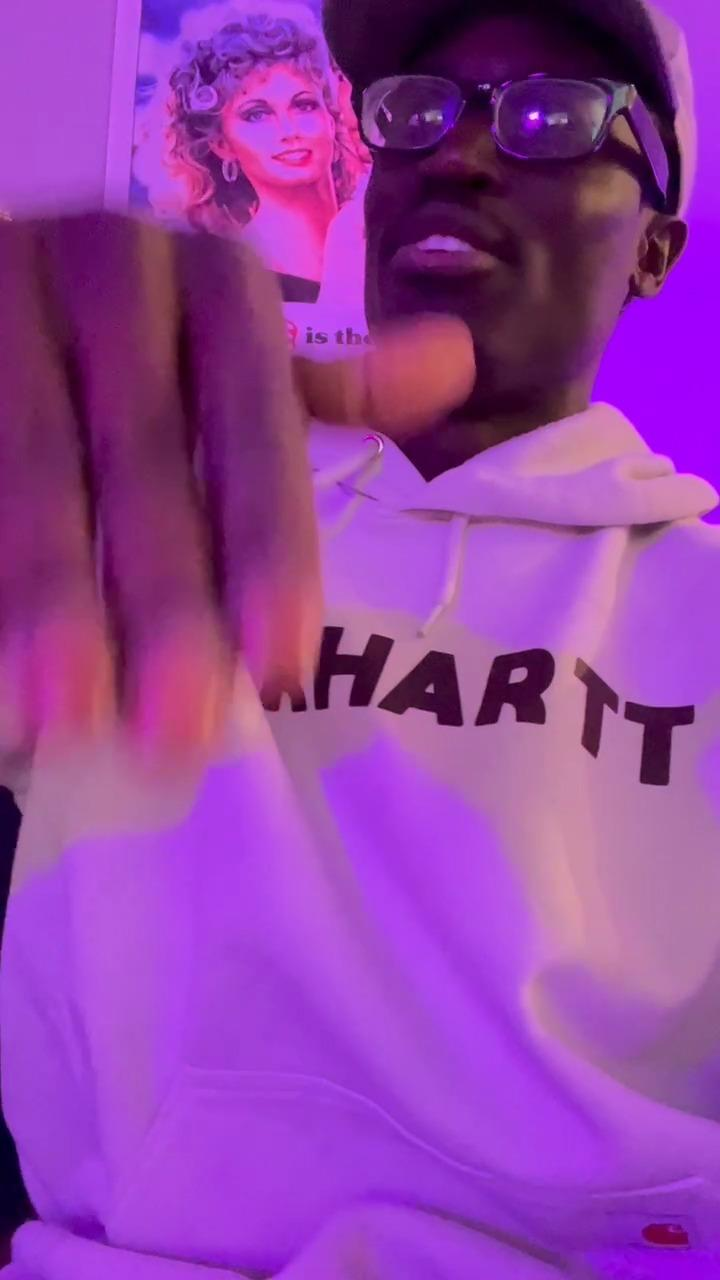Paper: (0, 204, 476, 768)
